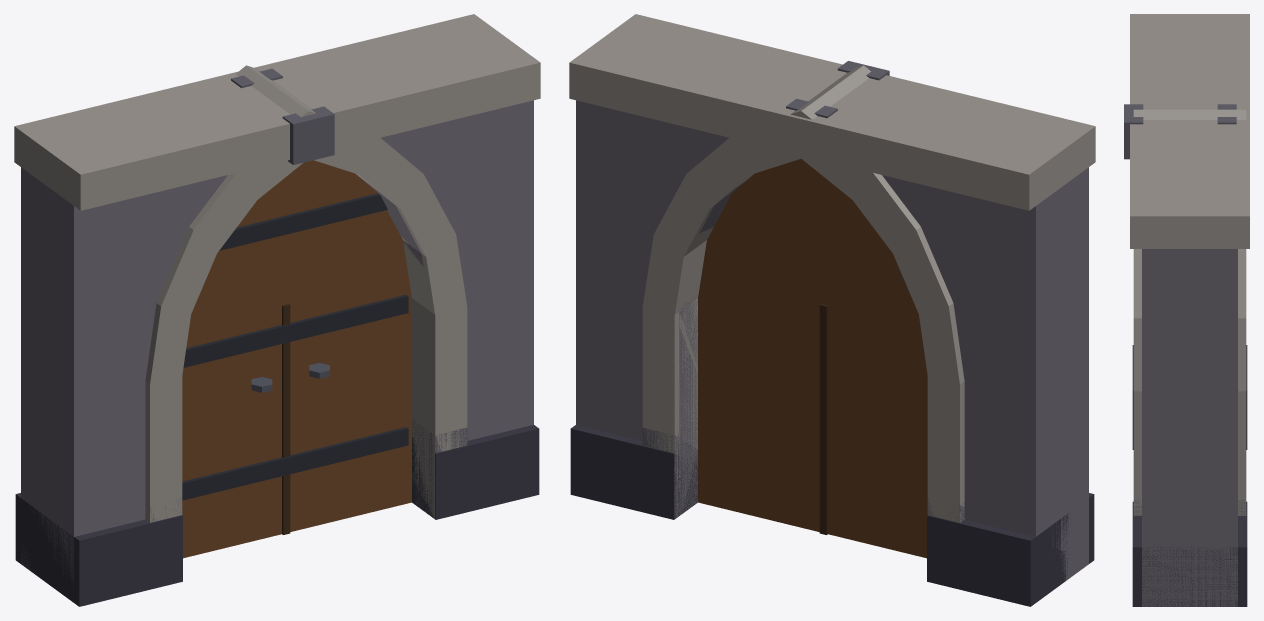
File: wall_arch_door.fbx
The picture shows the model from 3 angles, left to right: view 1: azimuth 30°, elevation 25°; view 2: azimuth 150°, elevation 25°; view 3: azimuth 270°, elevation 25°; orthographic projection. The views are drawn at different scales.
Visible parts, largest first — view 1: wall_arch_door; view 2: wall_arch_door; view 3: wall_arch_door.
Part boxes in pixels (left/top/right/bottom): wall_arch_door: left=14, top=14, right=540, bottom=606; wall_arch_door: left=569, top=14, right=1095, bottom=606; wall_arch_door: left=1124, top=14, right=1249, bottom=606.
Bounding box in the file's own units: 4 × 3.65 × 1.05.
